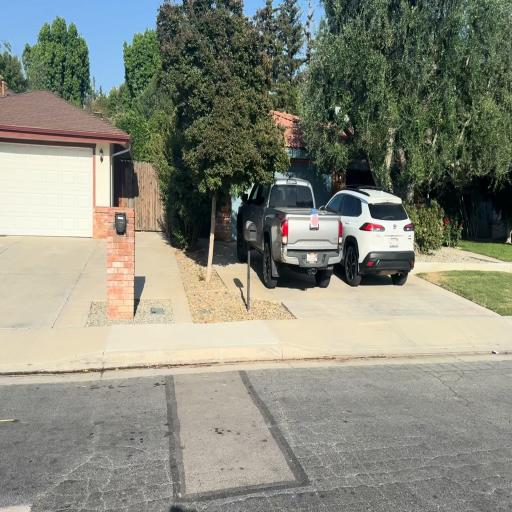bullseye: (311, 214, 318, 228)
